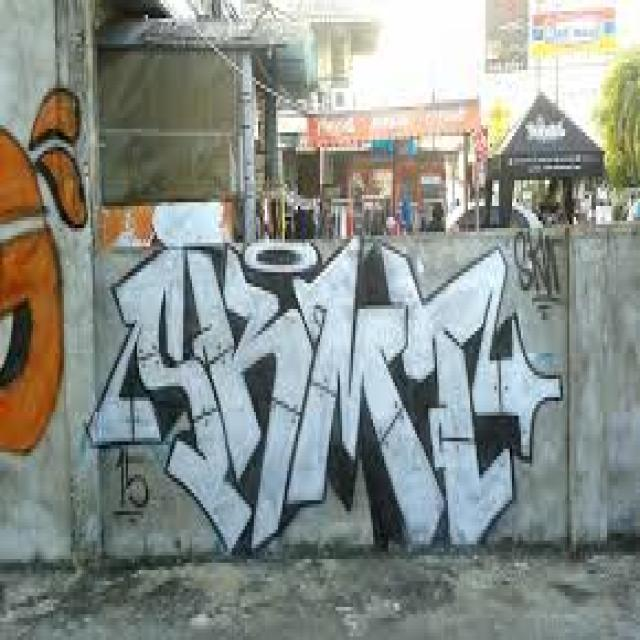-: (82, 246, 560, 551), (1, 82, 89, 450), (512, 226, 564, 320)
